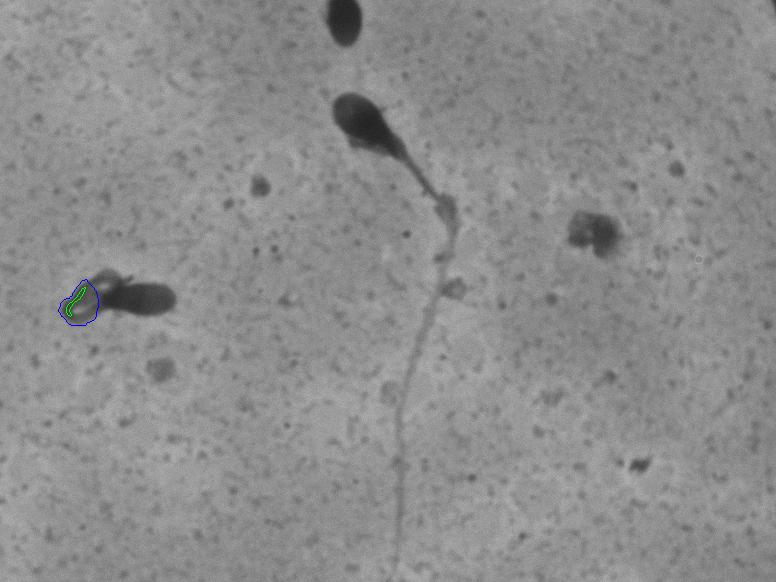Abnormal: (262, 61, 518, 539), (33, 237, 193, 371)
